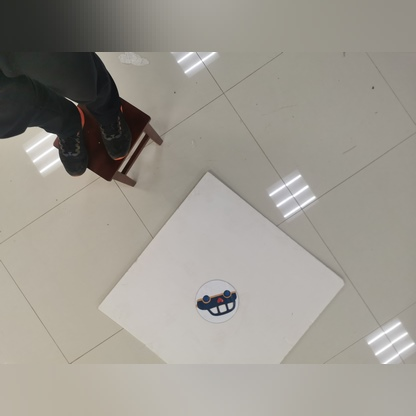car: (192, 283, 245, 328)
